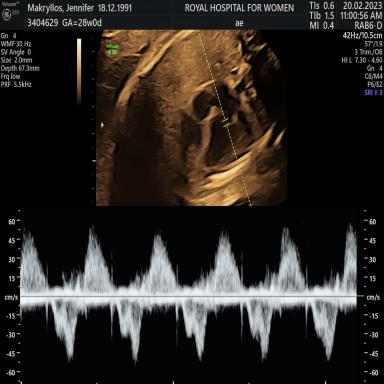Ultrasound-Waves: (28, 213, 355, 384)
